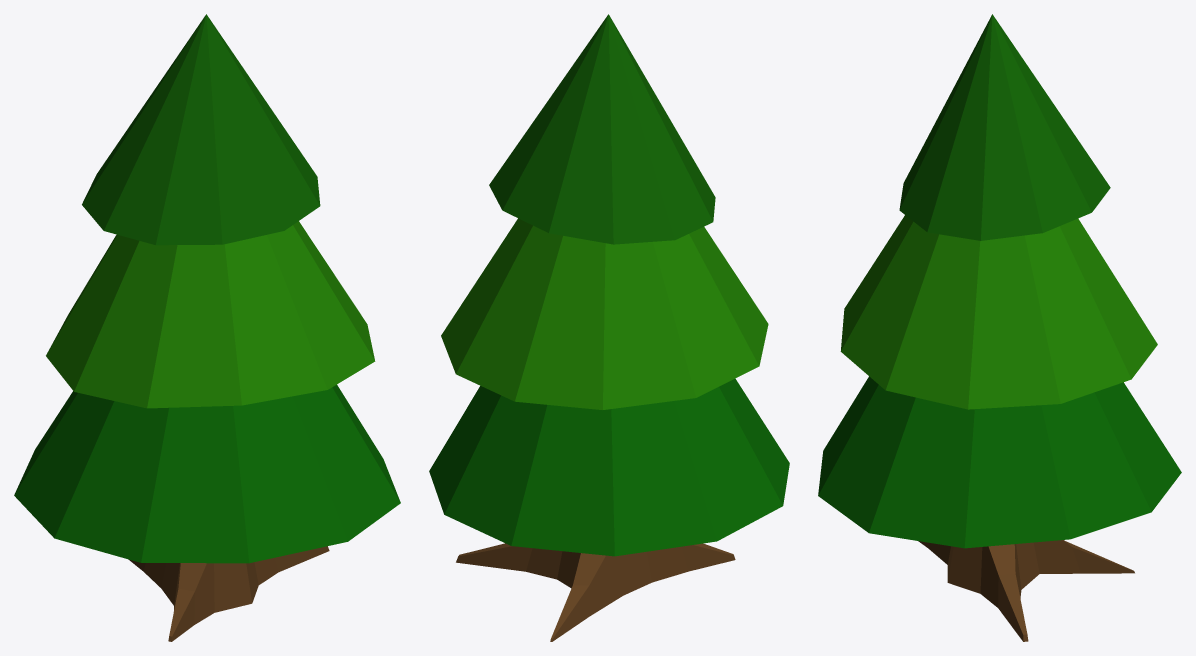
The model's file is pine1.glb.
3 renders of one model, left to right at view 1: azimuth 30°, elevation 25°; view 2: azimuth 150°, elevation 25°; view 3: azimuth 270°, elevation 25°, orthographic. The views are drawn at different scales.
Visible parts, largest first — view 1: Cone, Cone.001, Cone.002, Cylinder; view 2: Cone, Cone.001, Cone.002, Cylinder; view 3: Cone, Cone.001, Cone.002, Cylinder.
Part boxes in pixels (left/top/right/bottom): Cone: left=14, top=384, right=400, bottom=563; Cone.001: left=46, top=221, right=375, bottom=408; Cone.002: left=82, top=14, right=320, bottom=245; Cylinder: left=128, top=546, right=329, bottom=641; Cone: left=429, top=378, right=789, bottom=556; Cone.001: left=441, top=218, right=768, bottom=409; Cone.002: left=489, top=14, right=715, bottom=244; Cylinder: left=456, top=543, right=735, bottom=641; Cone: left=818, top=376, right=1181, bottom=548; Cone.001: left=840, top=215, right=1157, bottom=409; Cone.002: left=899, top=14, right=1110, bottom=240; Cylinder: left=918, top=540, right=1134, bottom=641.
Size of the model in its own units: 5.34 by 9.11 by 5.3.
